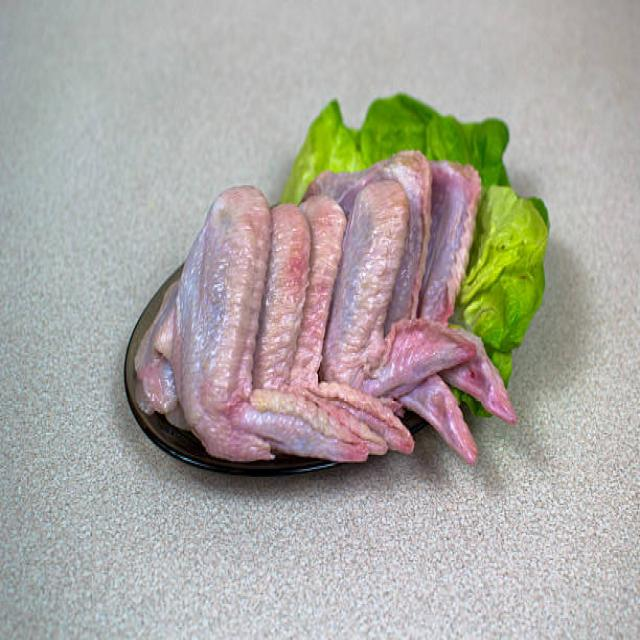Chicken: (147, 179, 350, 468)
